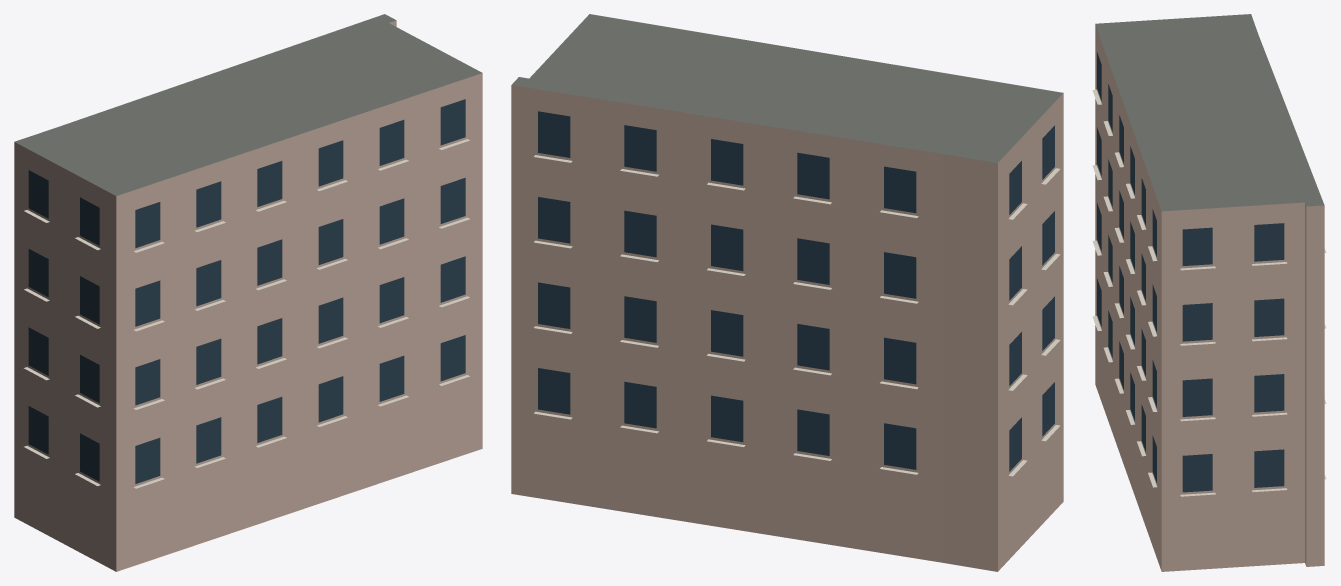
3 views of the same model, side by side, from view 1: azimuth 30°, elevation 25°; view 2: azimuth 150°, elevation 25°; view 3: azimuth 270°, elevation 25° (orthographic). The views are drawn at different scales.
Visible parts, largest first — view 1: Footprint 0, Inferred window bays, Window sills; view 2: Footprint 0, Inferred window bays, Window sills; view 3: Footprint 0, Inferred window bays, Window sills.
Boxes of the visible parts, box(x1,y1,x2,y2) form: Footprint 0: box(14, 14, 482, 571); Inferred window bays: box(28, 99, 465, 483); Window sills: box(24, 139, 469, 488); Footprint 0: box(511, 14, 1063, 571); Inferred window bays: box(538, 111, 1054, 471); Window sills: box(534, 155, 1060, 476); Footprint 0: box(1095, 14, 1324, 571); Inferred window bays: box(1097, 52, 1284, 492); Window sills: box(1092, 89, 1326, 496).
Bounding box in the file's own units: 19.27 × 16.21 × 9.54.
